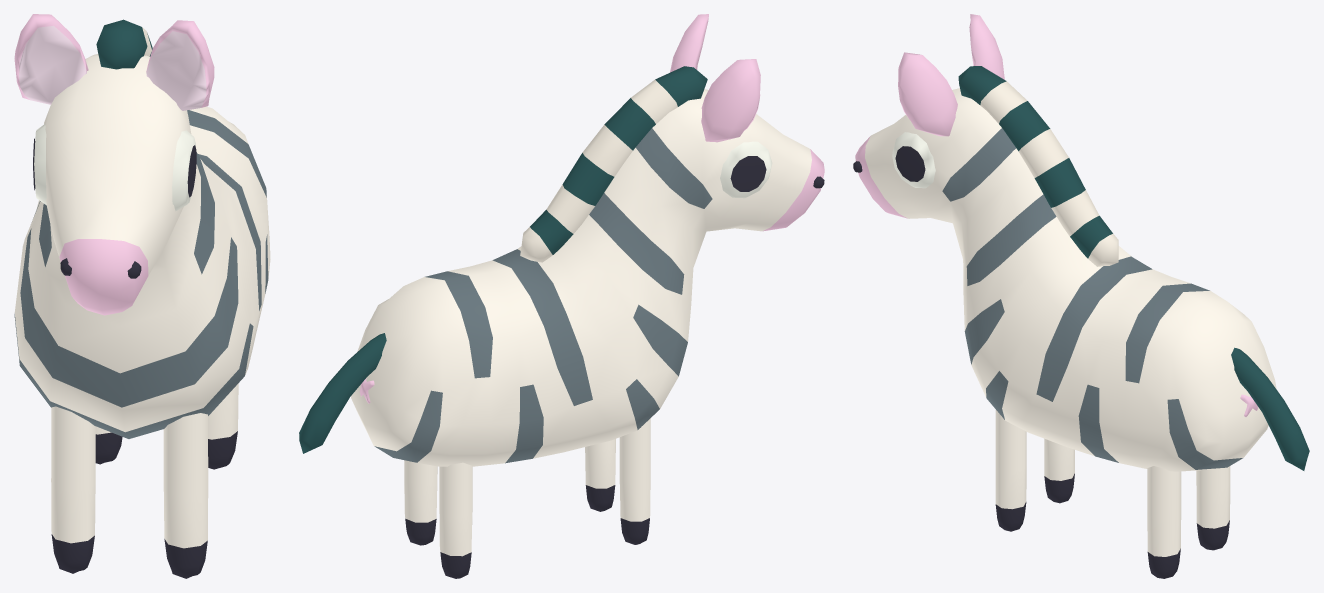
The model's file is zebra.gltf.
3 views of the same model, side by side, from view 1: azimuth 30°, elevation 25°; view 2: azimuth 150°, elevation 25°; view 3: azimuth 270°, elevation 25° (orthographic). The views are drawn at different scales.
Parts seen in each view (by area): view 1: huitugou_5168_47; view 2: huitugou_5168_47; view 3: huitugou_5168_47.
Part boxes in pixels (x1,y1,x2,y2): huitugou_5168_47: (14, 14, 270, 578); huitugou_5168_47: (299, 14, 824, 578); huitugou_5168_47: (853, 14, 1309, 578).
Bounding box in the file's own units: 0.5149 × 0.7444 × 0.6782.
1 material, 1 textured.
